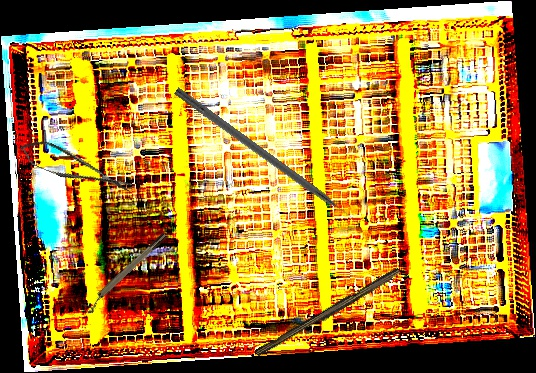Fixation Ring: (80, 230, 172, 316)
Hook Surgical: (172, 87, 360, 228)
Micro Scissor: (15, 132, 137, 205)
Scalpel Handle: (254, 265, 403, 361)
